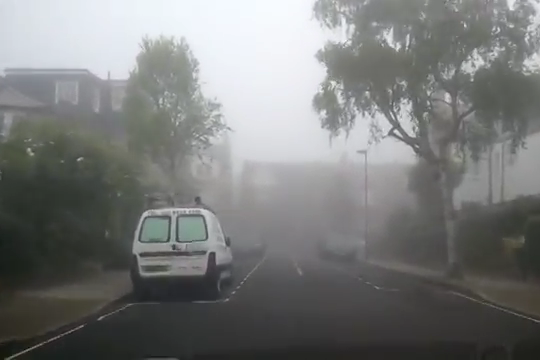car: (125, 203, 233, 299), (315, 228, 359, 264), (228, 229, 269, 260)
